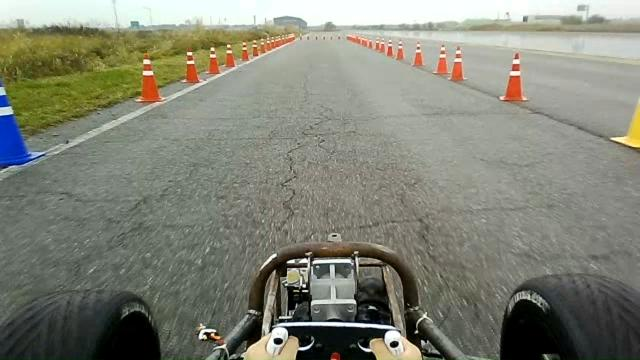blue cone: (0, 84, 46, 168)
red cone: (135, 51, 165, 103), (499, 52, 529, 102), (181, 47, 202, 84), (448, 45, 468, 82), (432, 43, 450, 75), (206, 46, 221, 74), (223, 43, 236, 67), (412, 40, 424, 66), (395, 39, 405, 60), (241, 40, 249, 62), (386, 38, 394, 56), (252, 39, 260, 56)
yellow cone: (609, 97, 639, 149)
